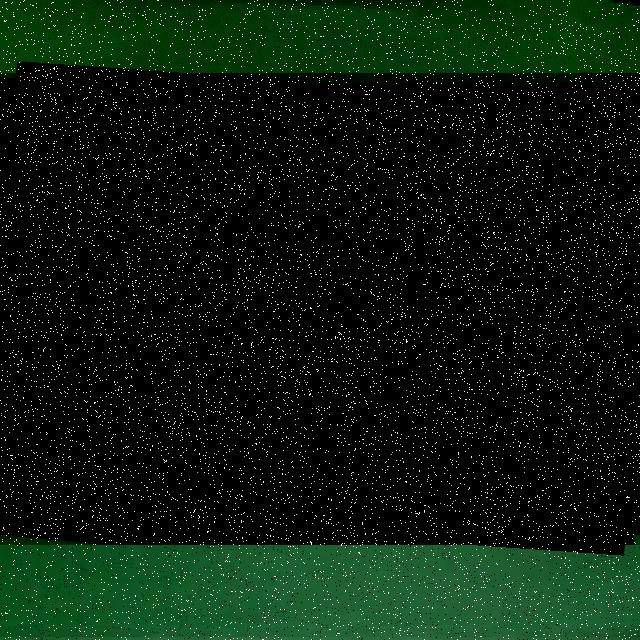dua ribu rupiah: (0, 73, 640, 545)
